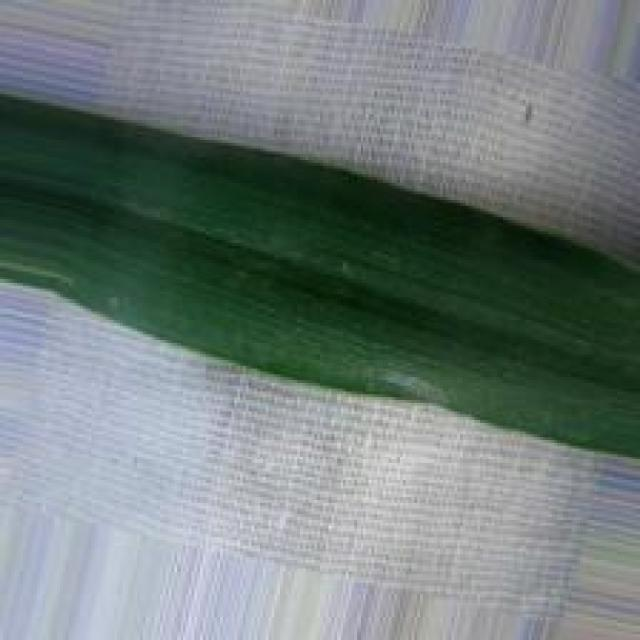Healthy: (0, 91, 640, 460)
